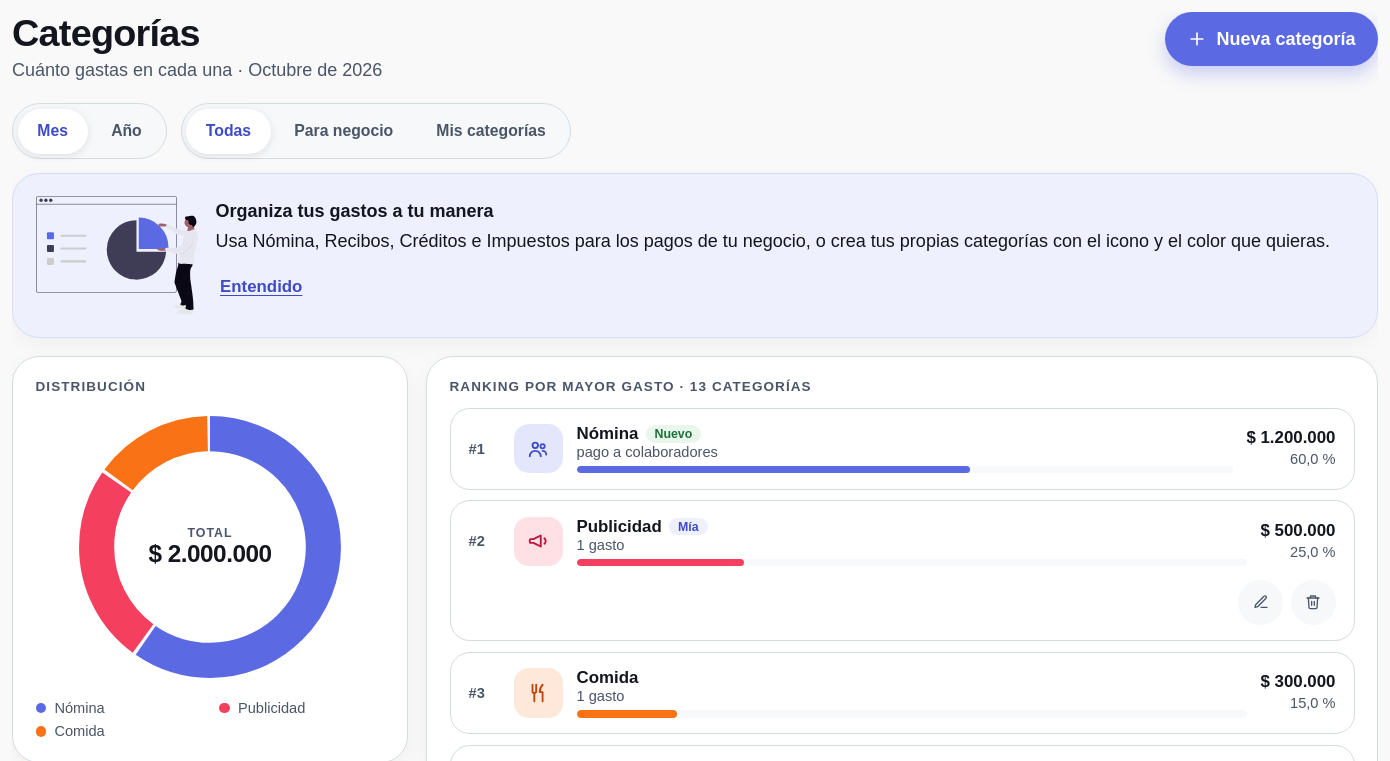
PaginaCategorias › el filtro «Para negocio» deja solo las 4 nuevas y «Mis categorías» solo las propias
Click the button "Para negocio": (344, 131) [274,108,413,154]
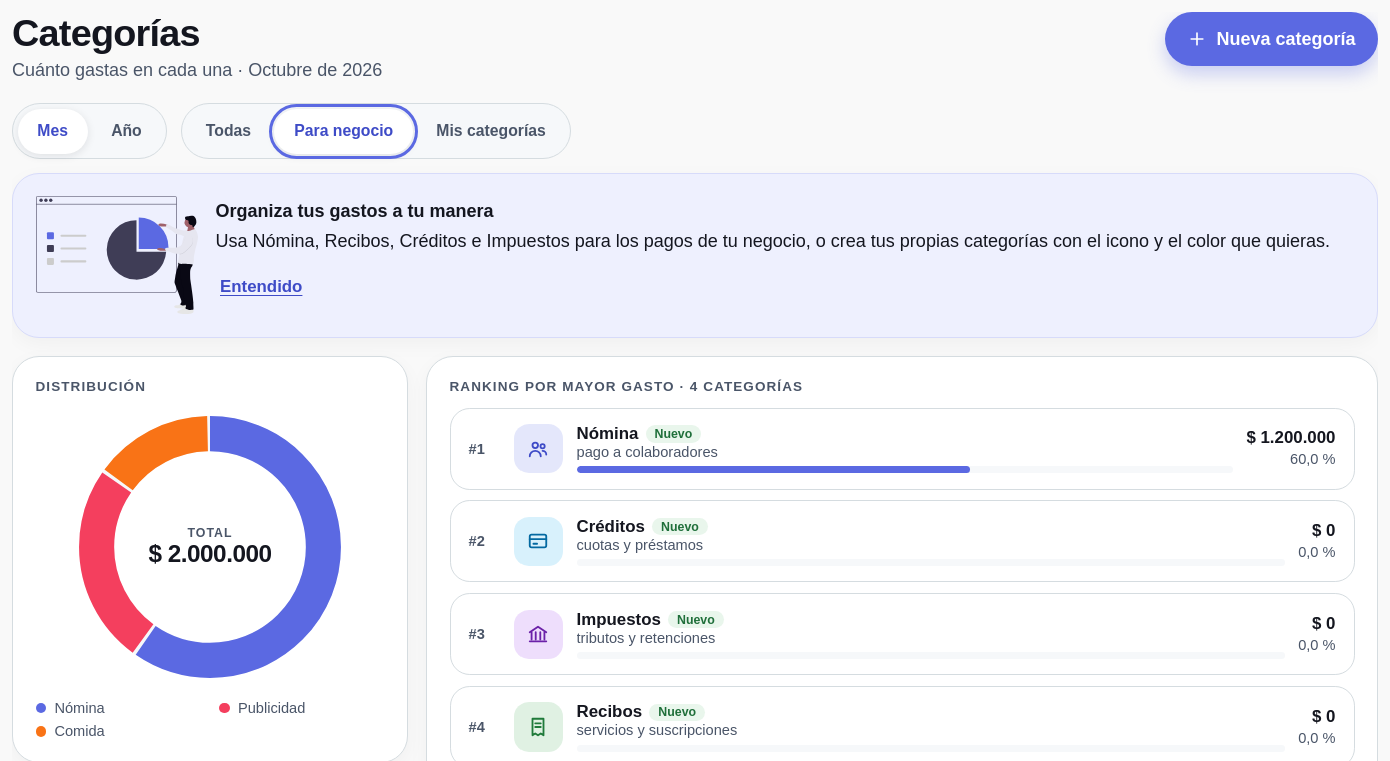
Click the button "Mis categorías": (491, 131) [417,108,566,154]
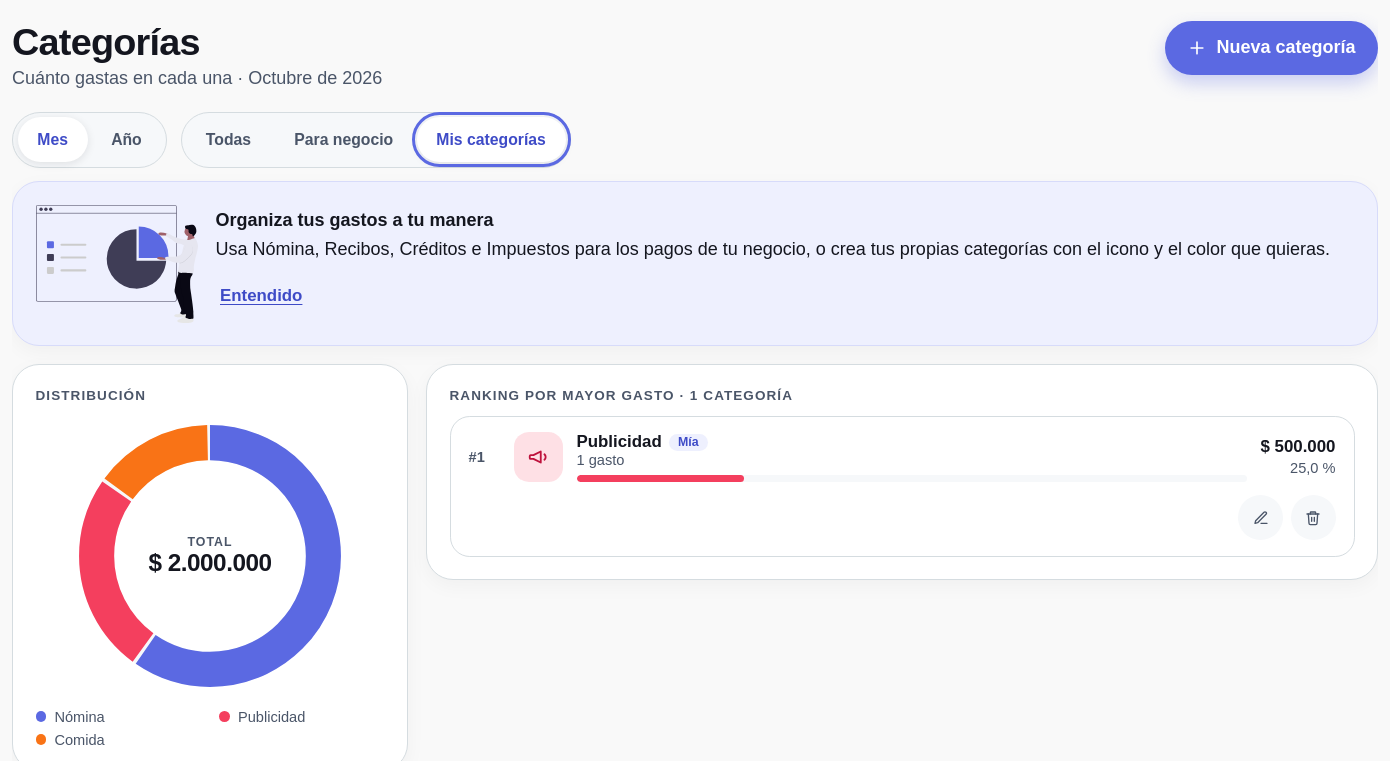
Expected: the list item "#1 Publicidad Mía 1 gasto $ 500.000 25,0 %" is shown, [450,416,1354,557]
